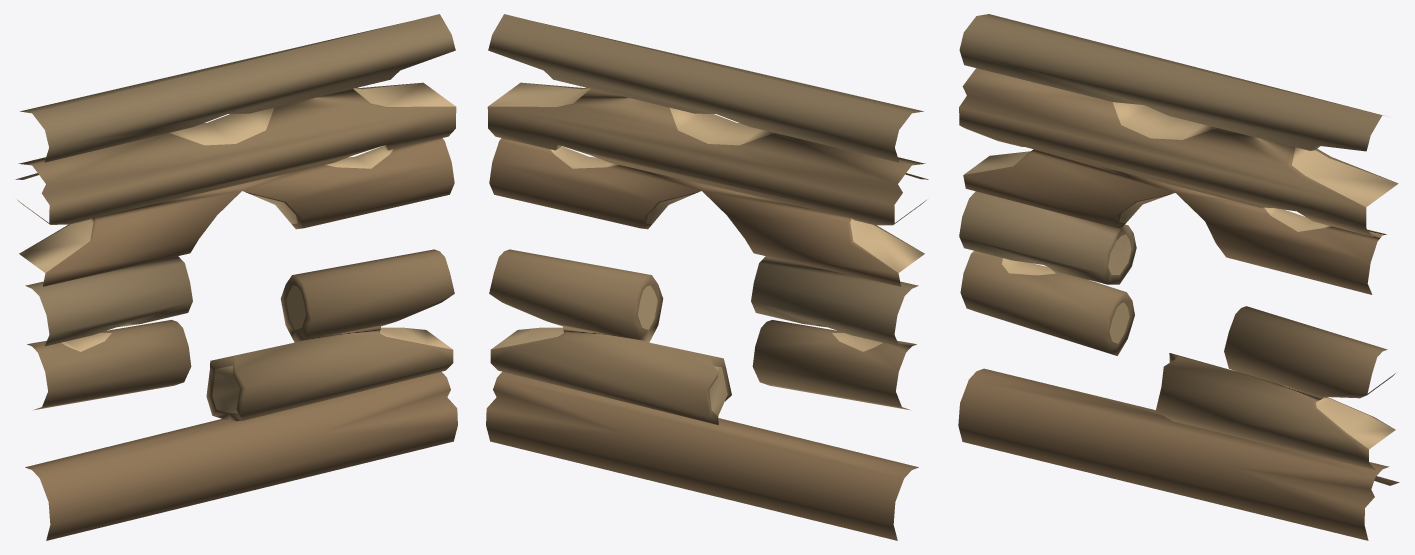
The model's file is rpgpp_av_wall_03_3x3_window_02b.gltf.
3 views of the same model, side by side, from view 1: azimuth 30°, elevation 25°; view 2: azimuth 150°, elevation 25°; view 3: azimuth 330°, elevation 25° (orthographic).
Visible parts, largest first — view 1: rpgpp_av_wall_03_3x3_window_02b; view 2: rpgpp_av_wall_03_3x3_window_02b; view 3: rpgpp_av_wall_03_3x3_window_02b.
Part boxes in pixels (x1,y1,x2,y2): rpgpp_av_wall_03_3x3_window_02b: (15, 14, 457, 540); rpgpp_av_wall_03_3x3_window_02b: (486, 14, 928, 540); rpgpp_av_wall_03_3x3_window_02b: (958, 14, 1399, 540).
Size of the model in its own units: 0.03 by 0.03 by 0.00463.
Materials: 1 (1 with a texture image).
